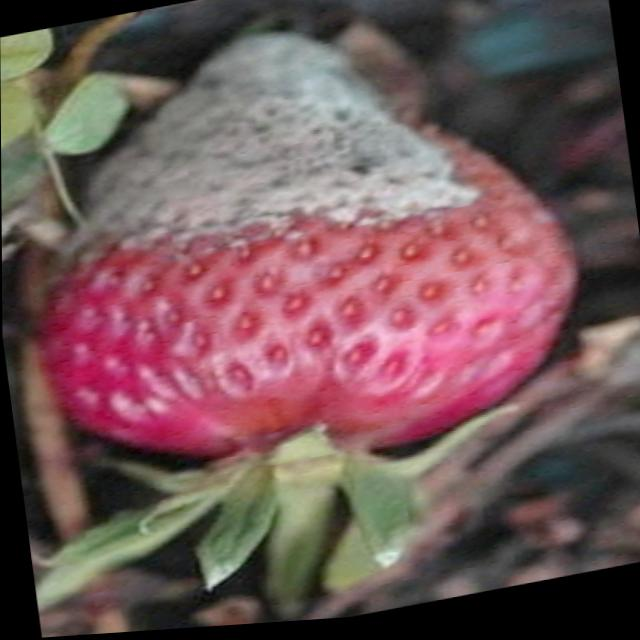Gray Mold: (37, 33, 530, 300)
